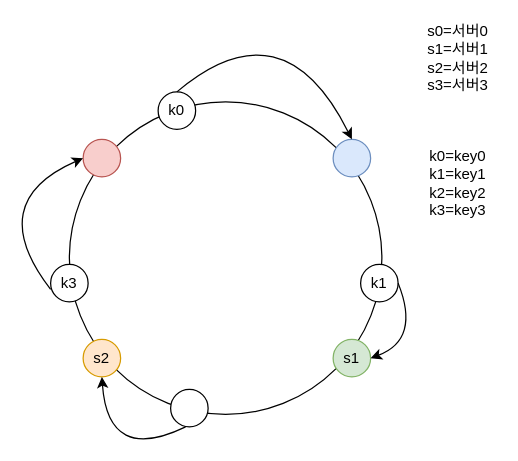
This 518x461 diagram has some shape labels left out. The box of each missing label's shape, as (x1, y1, x2, y2) in pixels:
k2: (169, 388, 208, 427)
s0: (332, 138, 371, 177)
s3: (82, 138, 121, 177)
